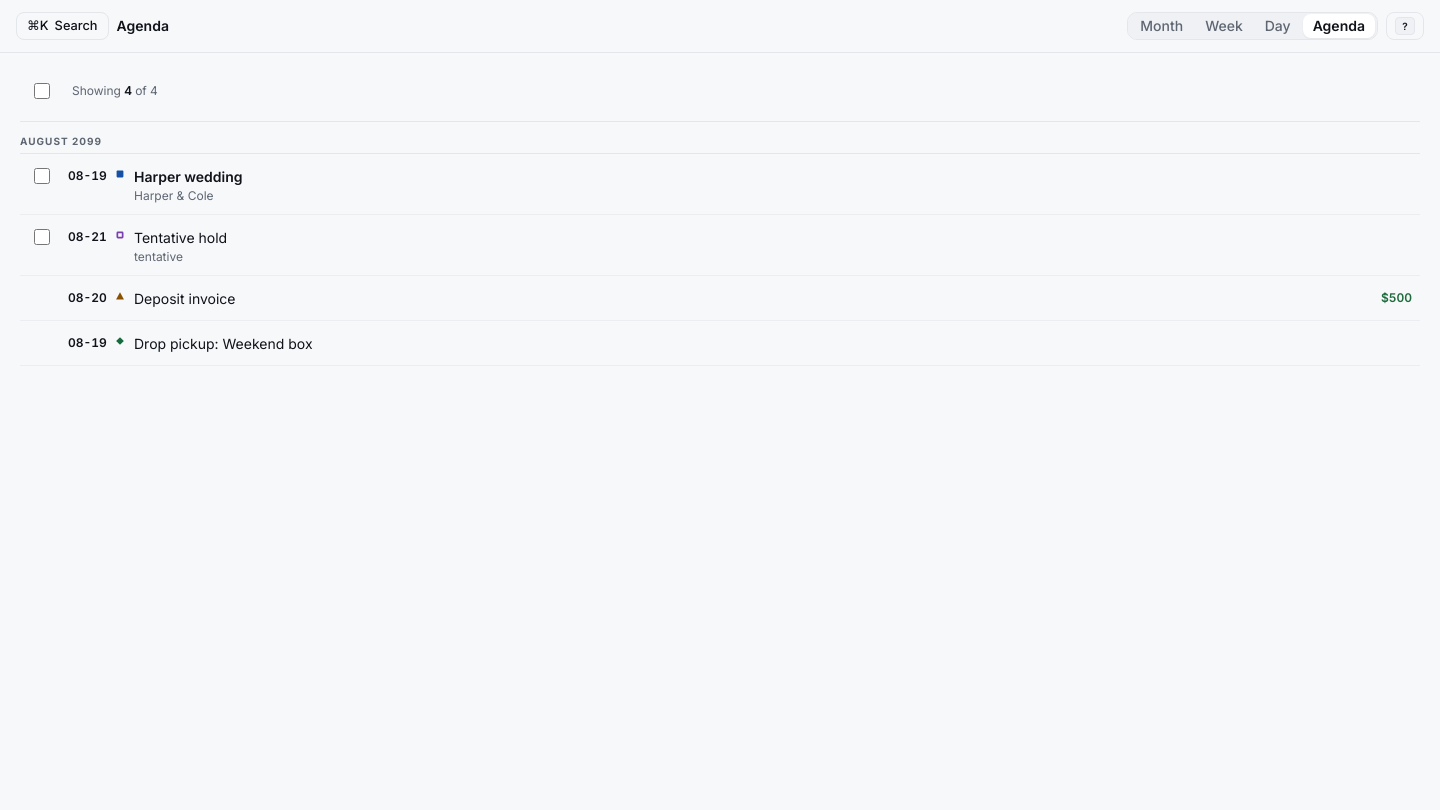
Test: Escape dismisses exactly one surface › the ? sheet shields the selection the same way
Click the checkbox in the row of "Harper wedding".
click(42, 176)  # box [34,168,50,184]
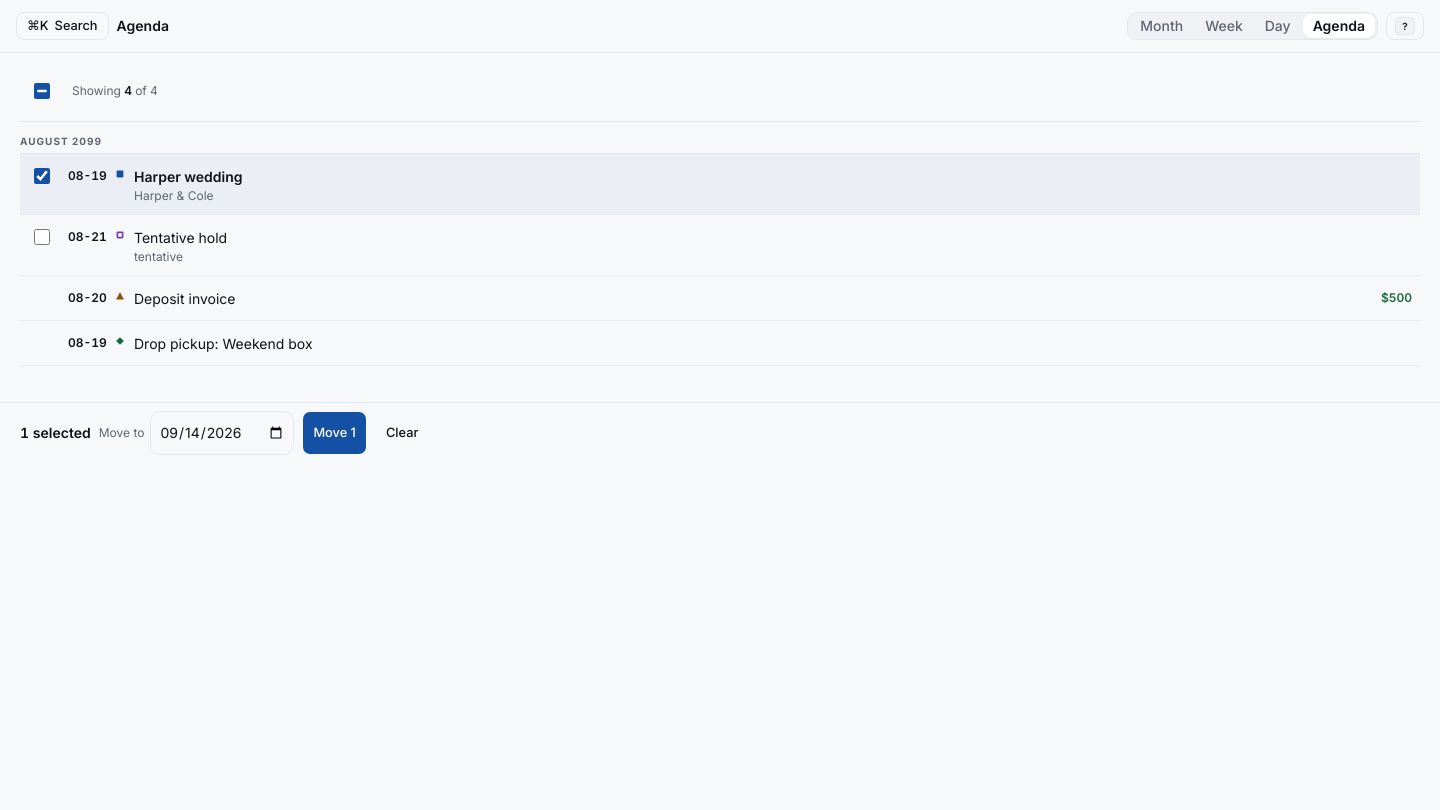
Click the button named "keyboard shortcuts".
click(1405, 26)  # box [1386,12,1424,40]
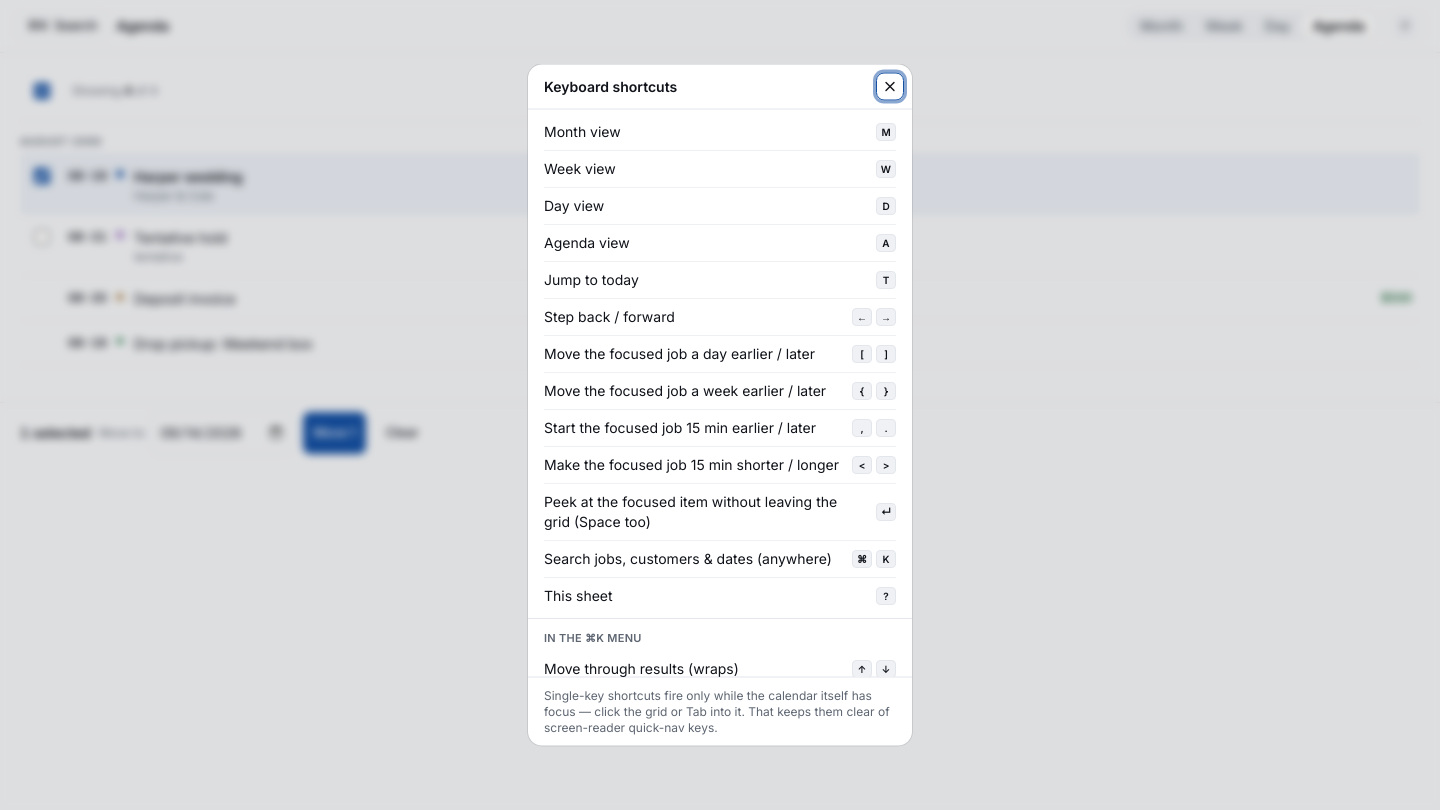
Expected: the heading "Keyboard shortcuts" is shown, [528,64,912,110]
